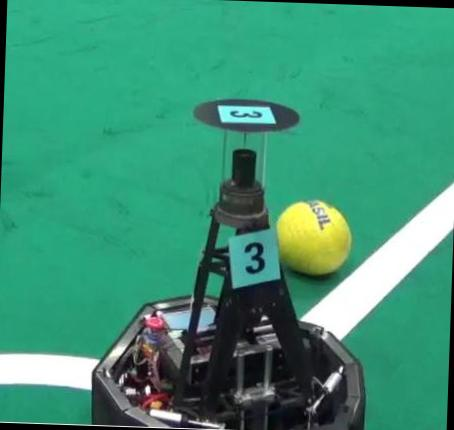ball: (277, 201, 351, 274)
robot: (93, 98, 365, 430)
